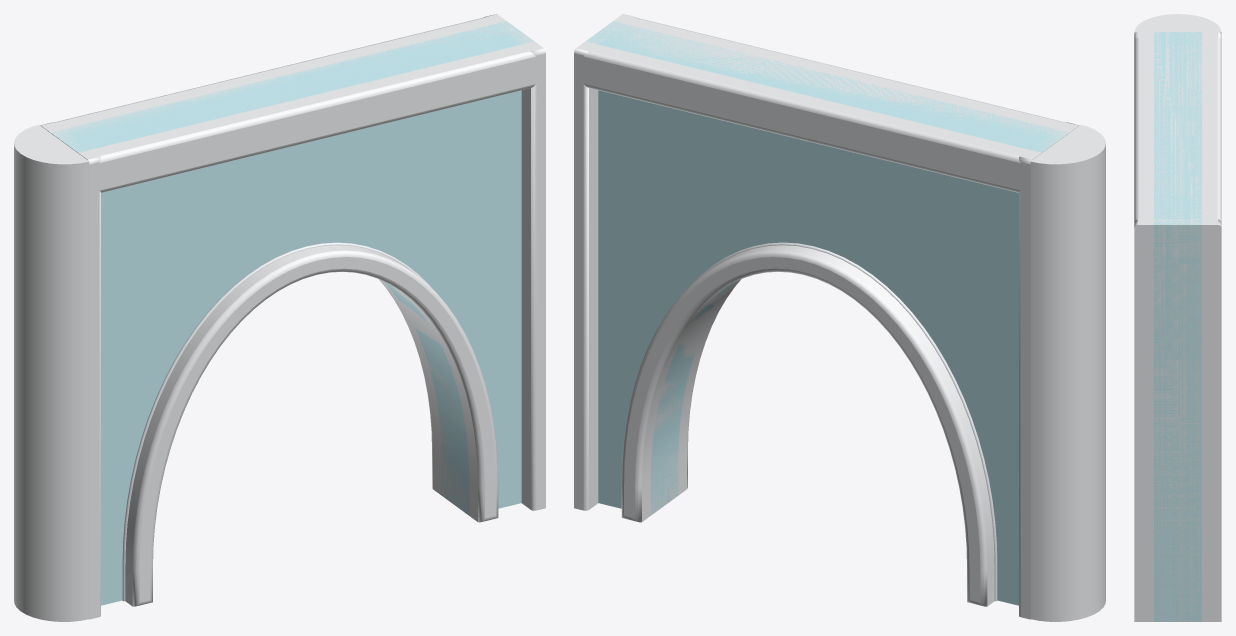
File: Arch_R2D02_GlassSlab.fbx
3 views of the same model, side by side, from view 1: azimuth 30°, elevation 25°; view 2: azimuth 150°, elevation 25°; view 3: azimuth 270°, elevation 25° (orthographic). The views are drawn at different scales.
Visible parts, largest first — view 1: Arch_R2D02_GlassSlab; view 2: Arch_R2D02_GlassSlab; view 3: Arch_R2D02_GlassSlab.
Part boxes in pixels (x1,y1,x2,y2): Arch_R2D02_GlassSlab: (14,14,545,621); Arch_R2D02_GlassSlab: (574,14,1105,621); Arch_R2D02_GlassSlab: (1134,14,1221,621).
Bounding box in the file's own units: 2.29 × 2.01 × 0.4.
